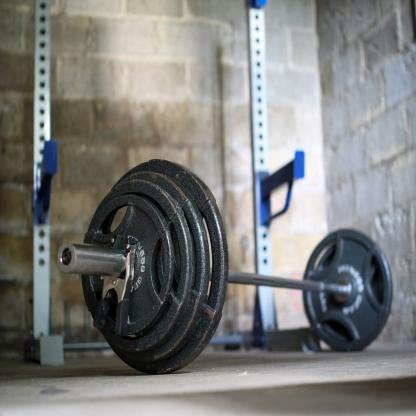barbell: (57, 156, 394, 378)
